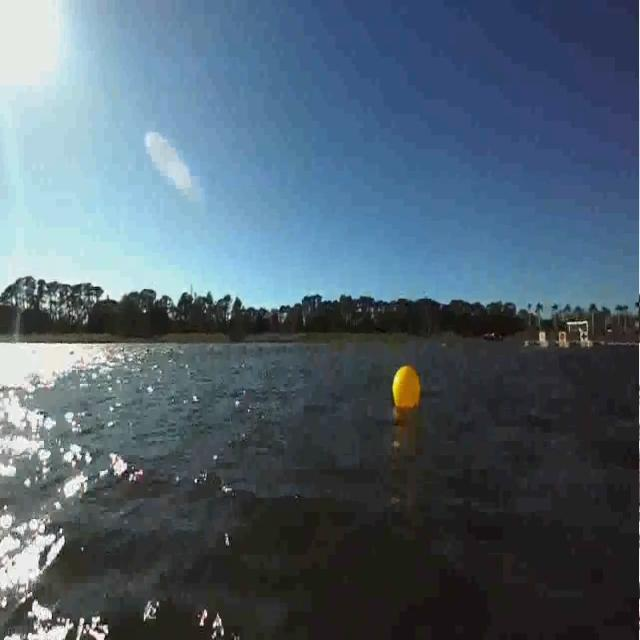yellow-buoy: (394, 364, 422, 412)
